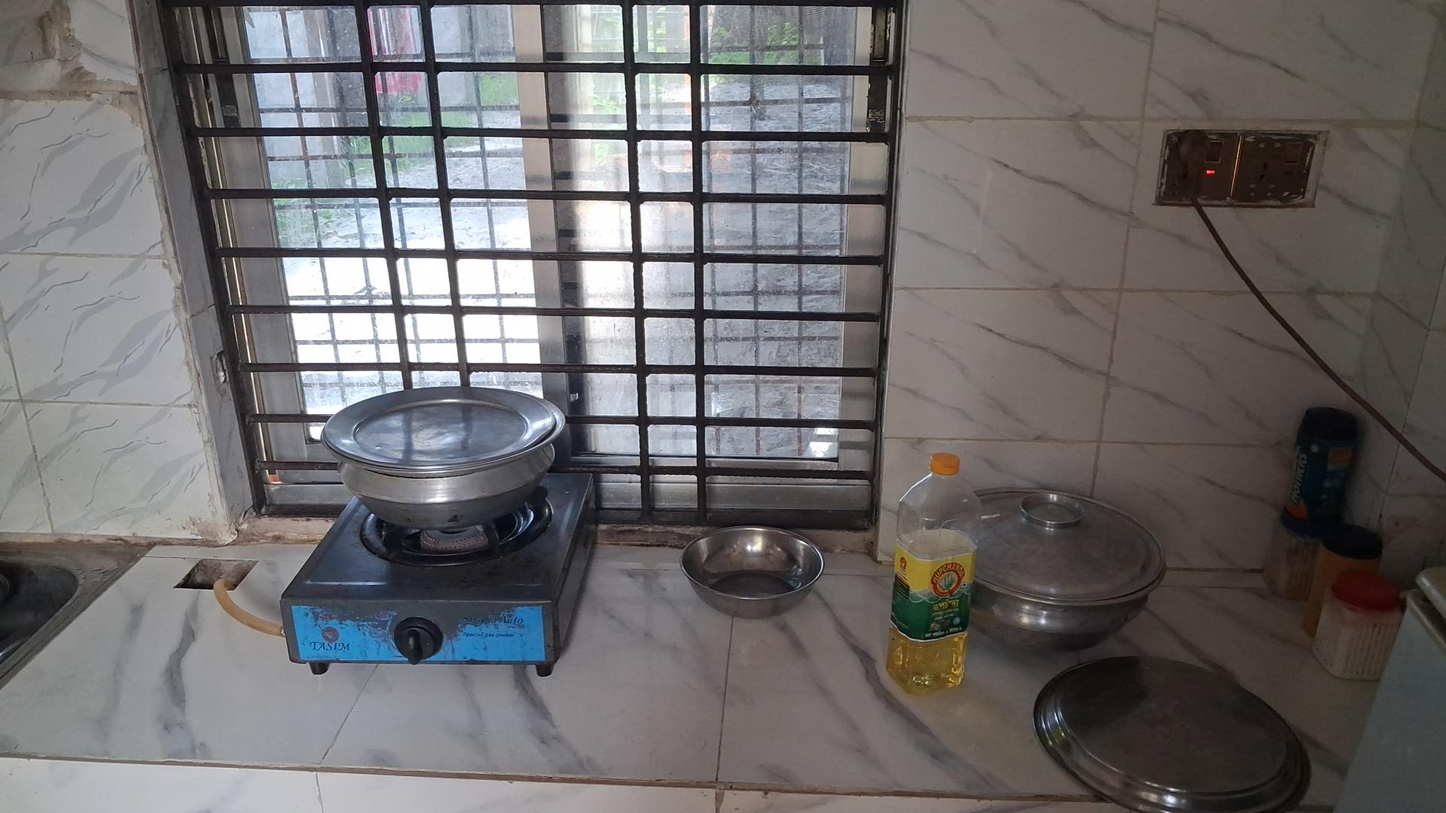Bottle: (885, 452, 982, 695)
Bowl: (680, 526, 824, 619)
Jar: (1281, 408, 1362, 529), (1320, 566, 1407, 672)
Plate: (1033, 657, 1304, 813)
Pot: (315, 384, 563, 536), (968, 487, 1167, 653)
Window: (158, 8, 888, 544)
